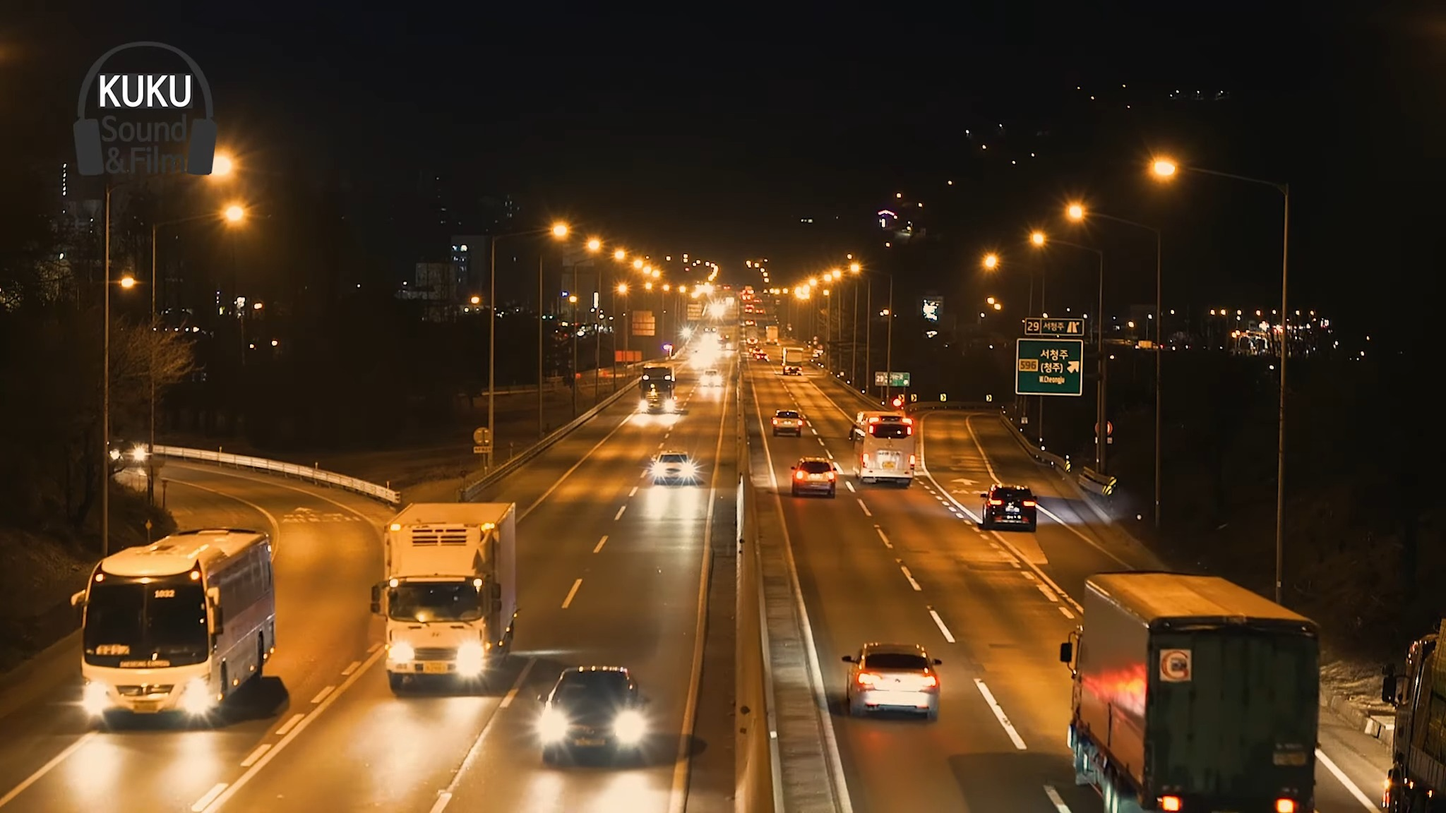car: (73, 537, 280, 727), (539, 662, 648, 773), (855, 639, 942, 721), (849, 410, 926, 488), (982, 484, 1037, 536), (793, 457, 838, 502)
truck: (1074, 568, 1325, 813), (376, 500, 524, 694)
